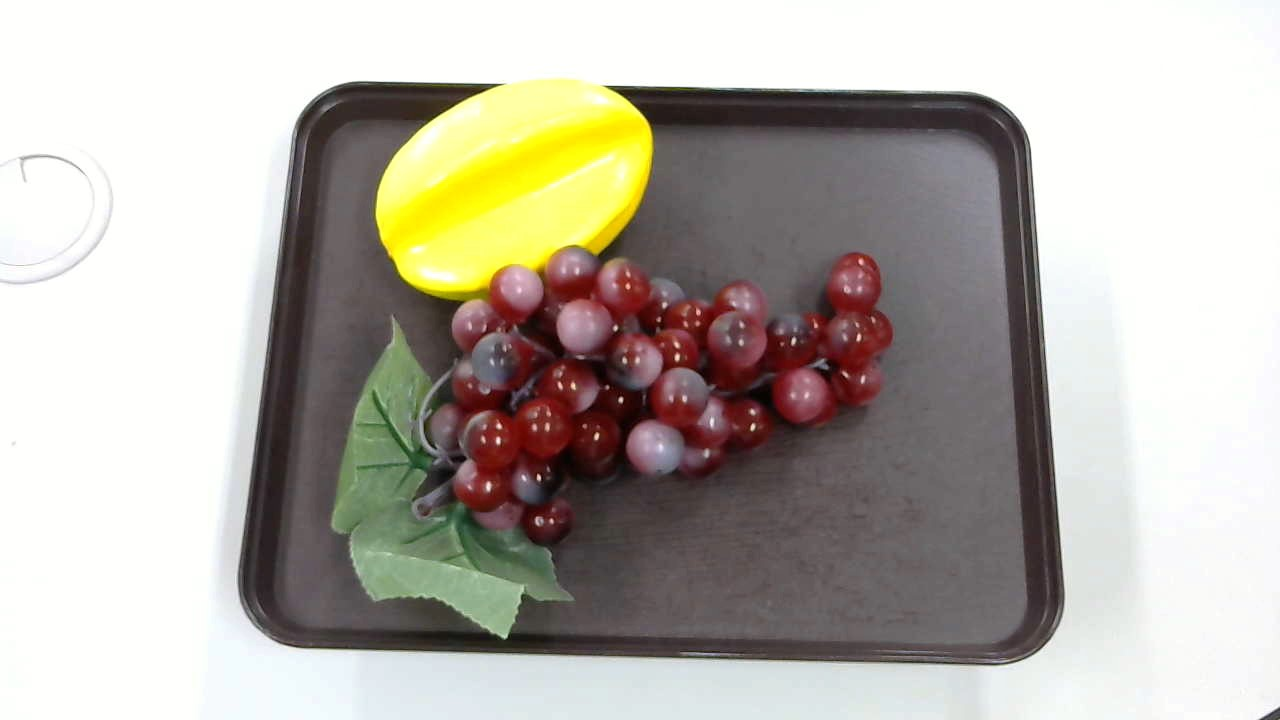grape: (330, 242, 900, 646)
star fruit: (373, 83, 652, 320)
